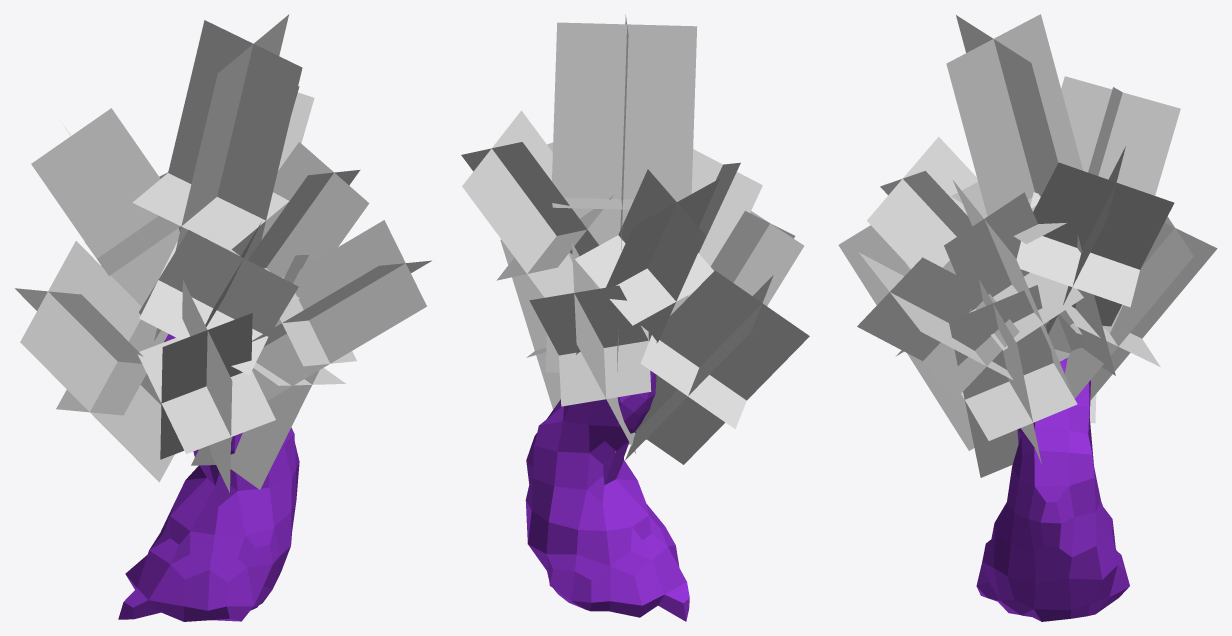
Rendered from tree03-3.fbx.
3 views of the same model, side by side, from view 1: azimuth 30°, elevation 25°; view 2: azimuth 150°, elevation 25°; view 3: azimuth 270°, elevation 25° (orthographic). The views are drawn at different scales.
Visible parts, largest first — view 1: Plane, tree Low; view 2: Plane, tree Low; view 3: Plane, tree Low.
Boxes of the visible parts, x1=… form: Plane: x1=15, y1=14, x2=431, y2=492; tree Low: x1=118, y1=334, x2=299, y2=621; Plane: x1=461, y1=15, x2=809, y2=464; tree Low: x1=525, y1=370, x2=689, y2=621; Plane: x1=838, y1=14, x2=1217, y2=477; tree Low: x1=976, y1=358, x2=1129, y2=621.
Bounding box in the file's own units: 275 × 436 × 255.
